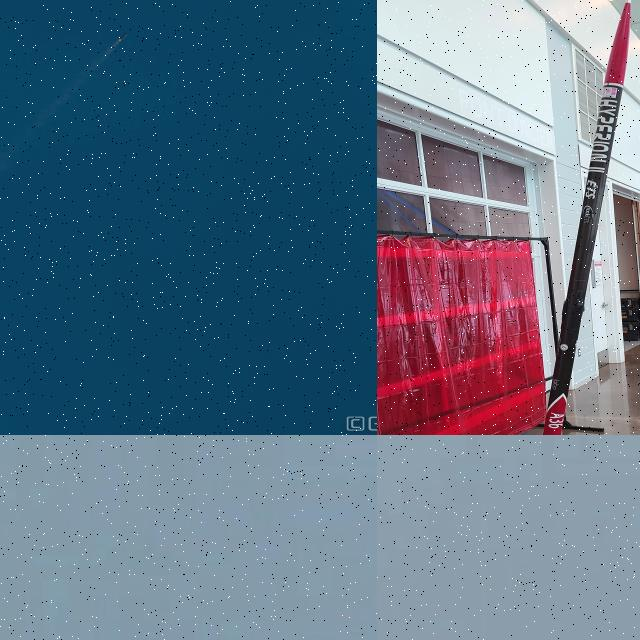Rocket: (542, 0, 631, 435), (116, 32, 128, 42)
